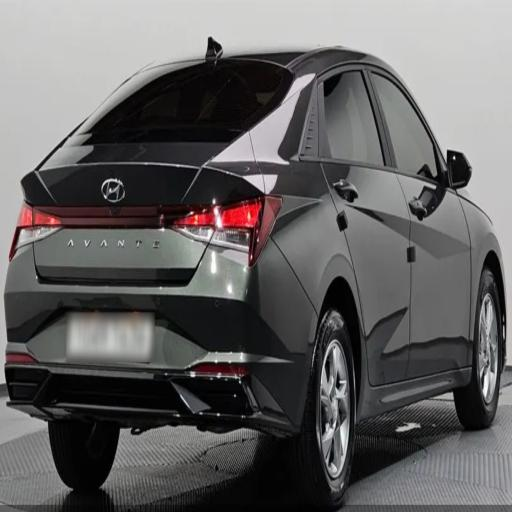normal: (2, 6, 511, 501)
